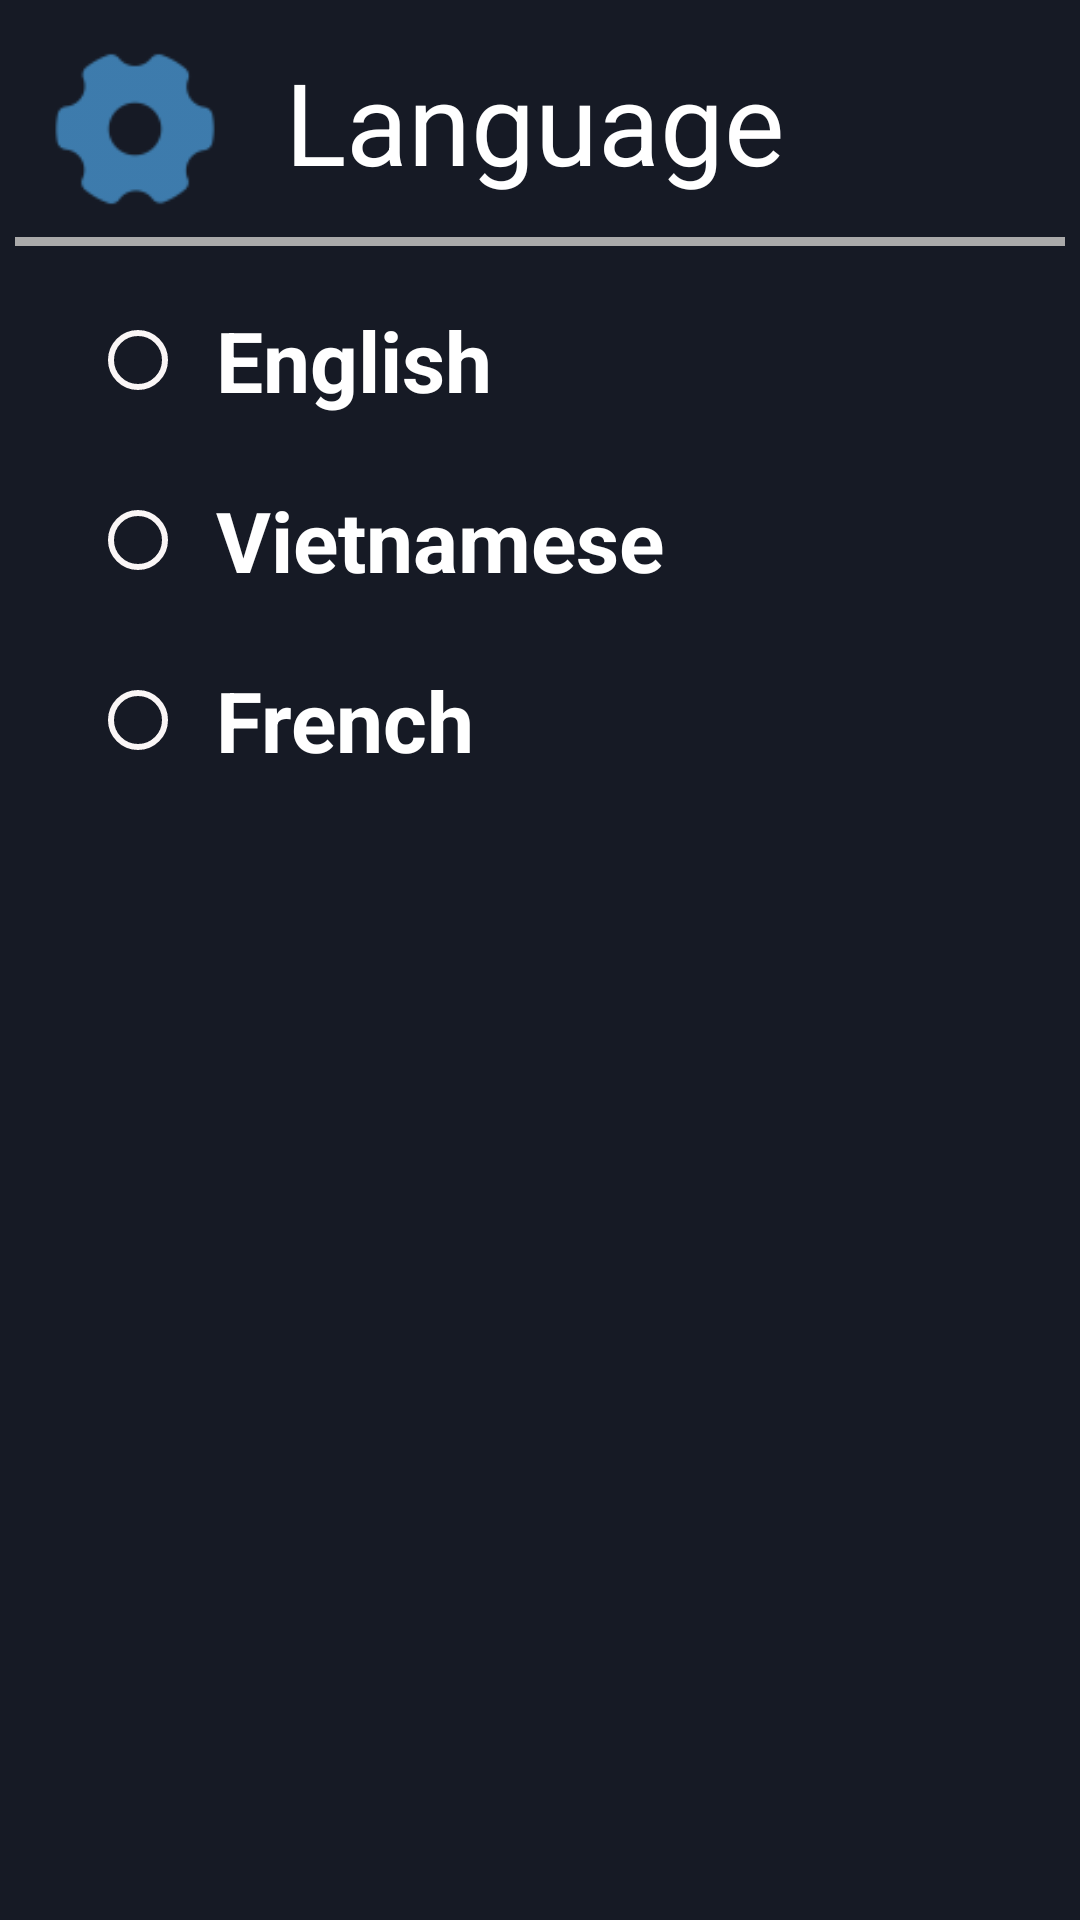

Named icons in this screenshot (1080*1920) and their centers, (x=x, y=y):
cogwheel: (x=135, y=129)
